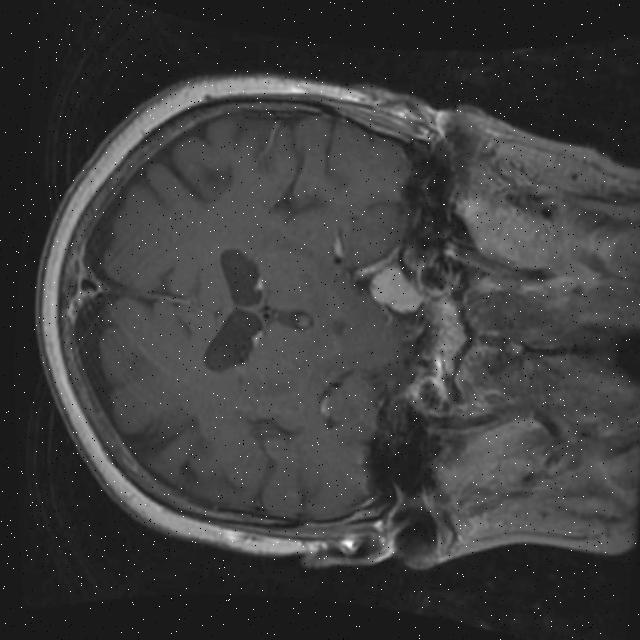Meningioma: (366, 262, 427, 316)
